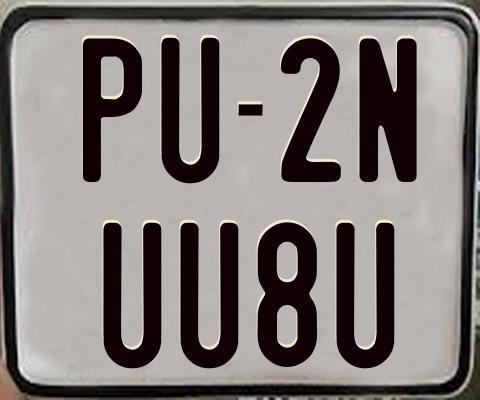2: (281, 35, 347, 184)
8: (254, 221, 317, 368)
N: (357, 36, 419, 184)
P: (83, 38, 143, 187)
U: (160, 37, 224, 188), (334, 221, 398, 368), (178, 223, 238, 374), (103, 223, 163, 372)
